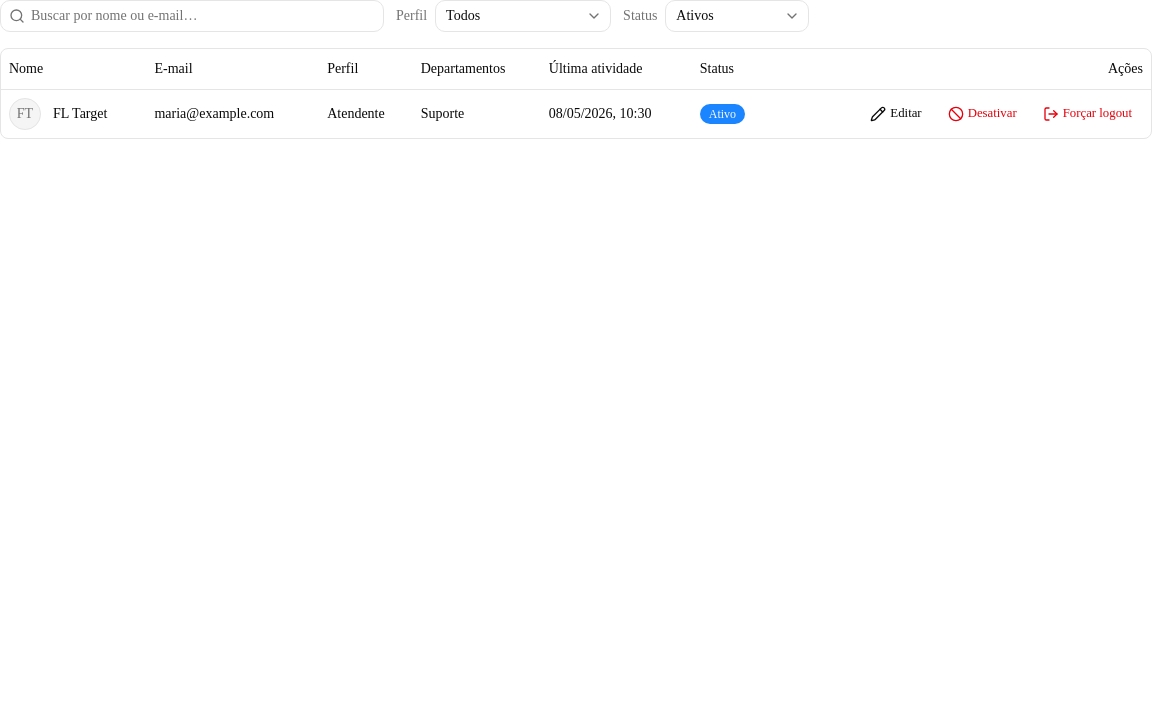
Test: UsersTable › clicar Forçar logout abre ForceLogoutUserDialog
Click the button with aria-label "forçar logout do usuário fl target" at (1087, 114), box [1032,100,1143,128]
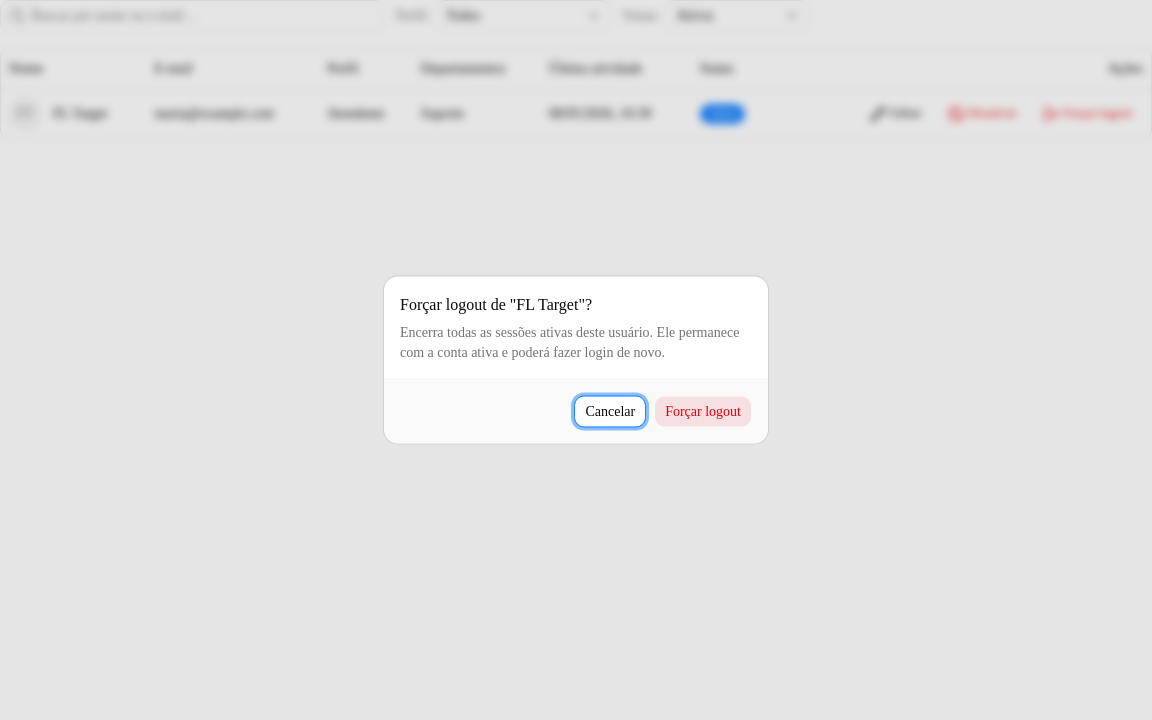
Expected: the heading "Forçar logout de \"FL Target\"?" is shown, [400,292,592,316]
